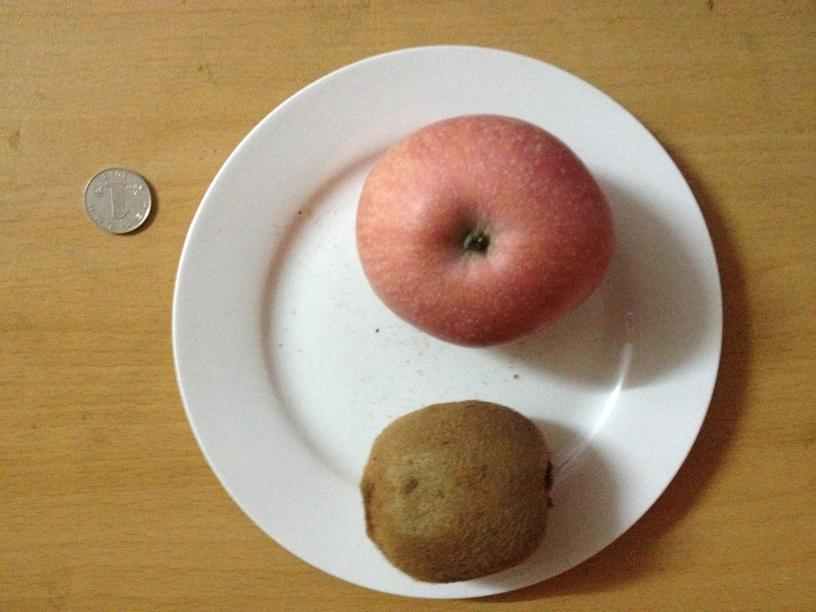apple: (352, 117, 609, 347)
coin: (85, 166, 152, 235)
qiwi: (355, 397, 550, 584)
